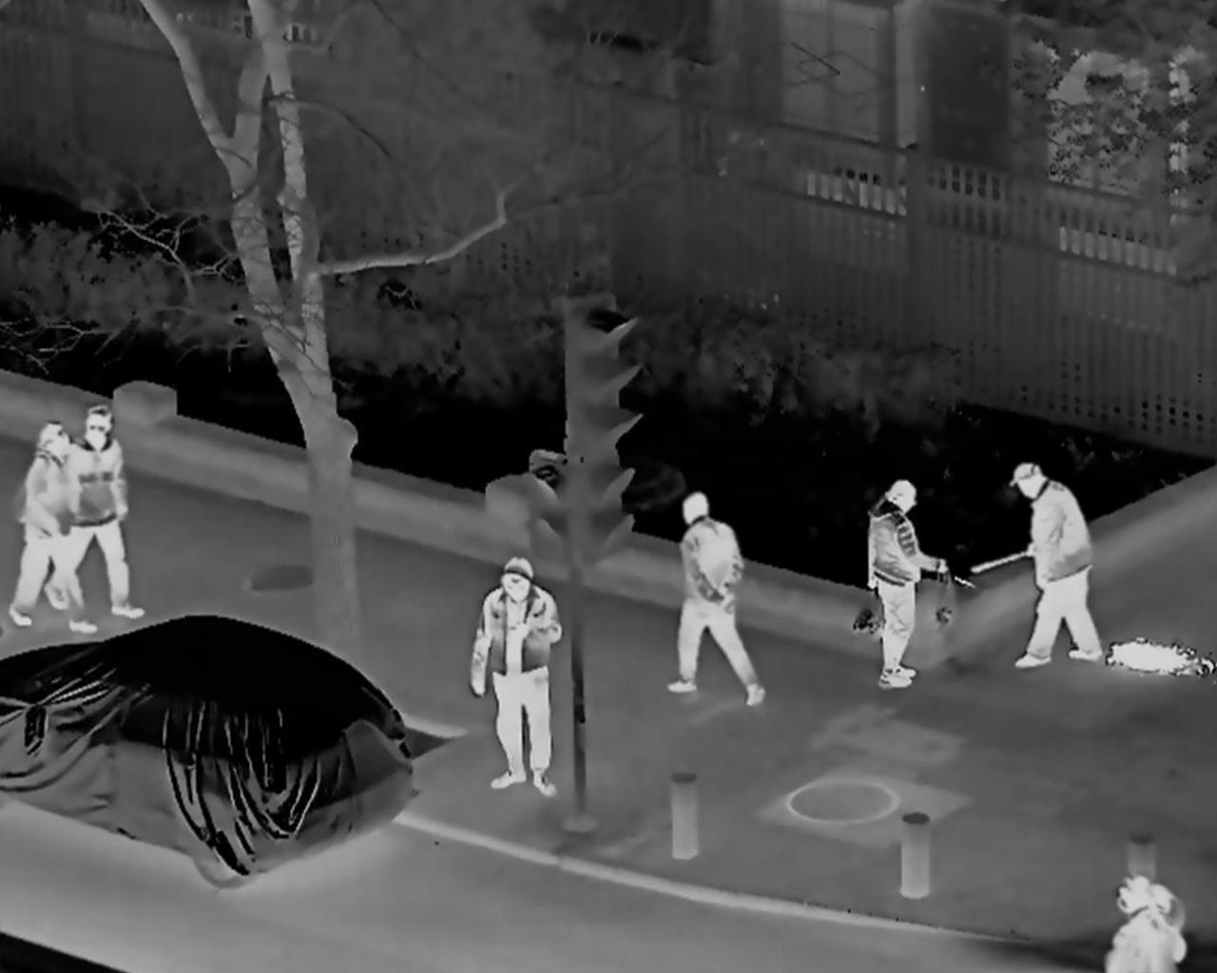person: (467, 558, 563, 798), (668, 488, 767, 703), (48, 407, 146, 620), (1007, 462, 1105, 668), (11, 421, 101, 638), (861, 478, 949, 684), (1101, 874, 1181, 973)
